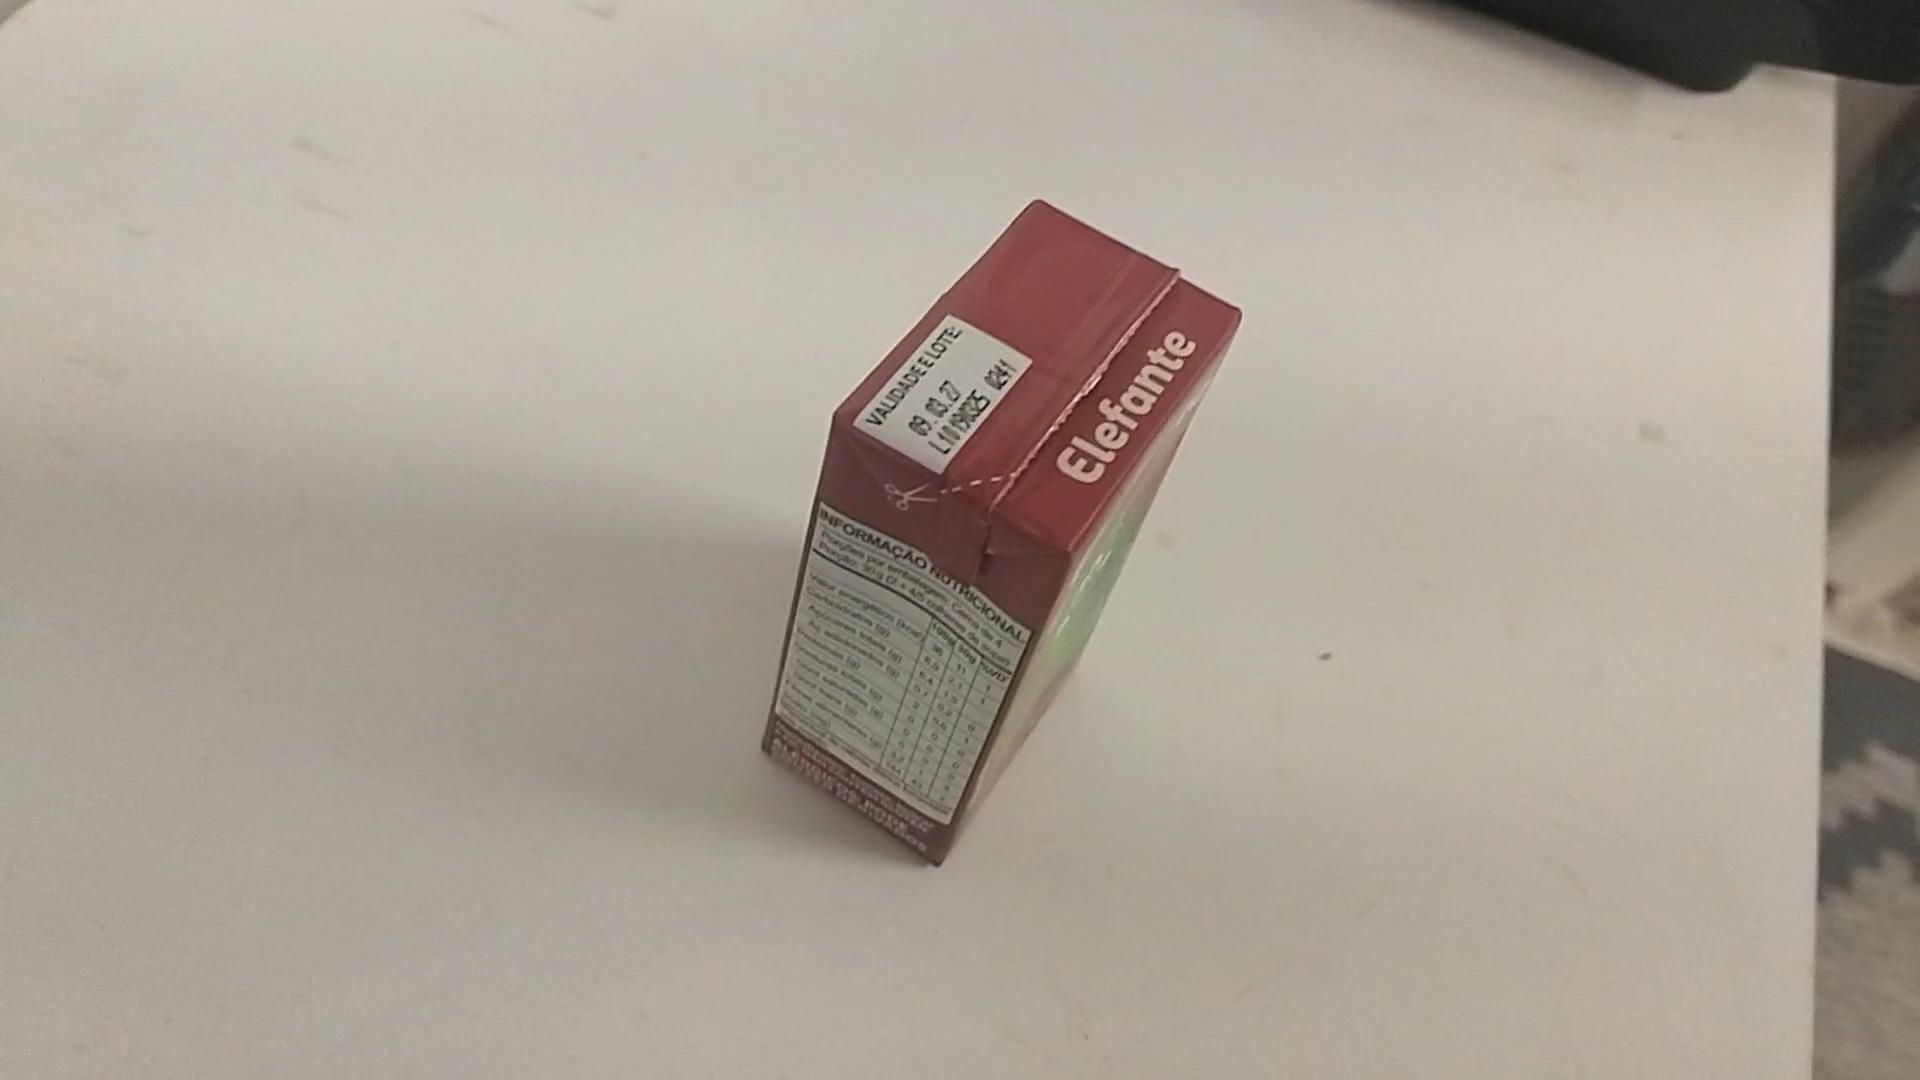tomate: (748, 189, 1254, 865)
